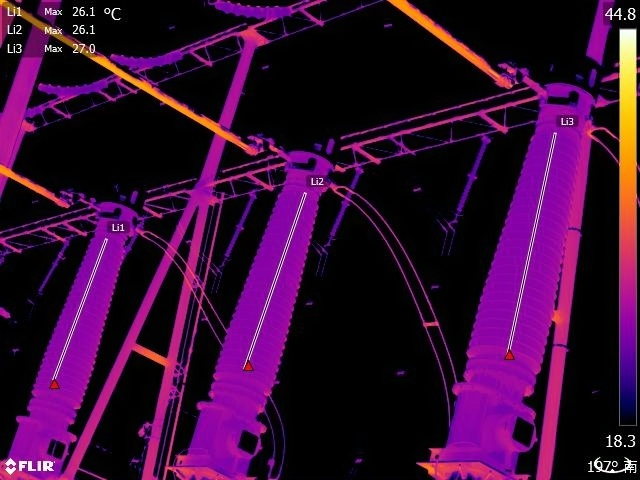current transformer: (431, 42, 609, 460), (184, 112, 352, 460), (4, 161, 160, 480)
insulator: (447, 134, 489, 218), (324, 164, 361, 246), (221, 189, 259, 266), (111, 41, 184, 68), (37, 75, 110, 98), (201, 1, 294, 18), (41, 235, 68, 293)
